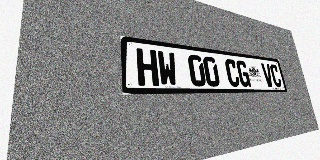0: (187, 54, 206, 86), (202, 56, 220, 87)
C: (224, 59, 240, 87), (269, 64, 282, 87)
G: (236, 60, 251, 87)
H: (136, 48, 159, 86)
V: (261, 63, 274, 87)
W: (157, 50, 178, 86)
